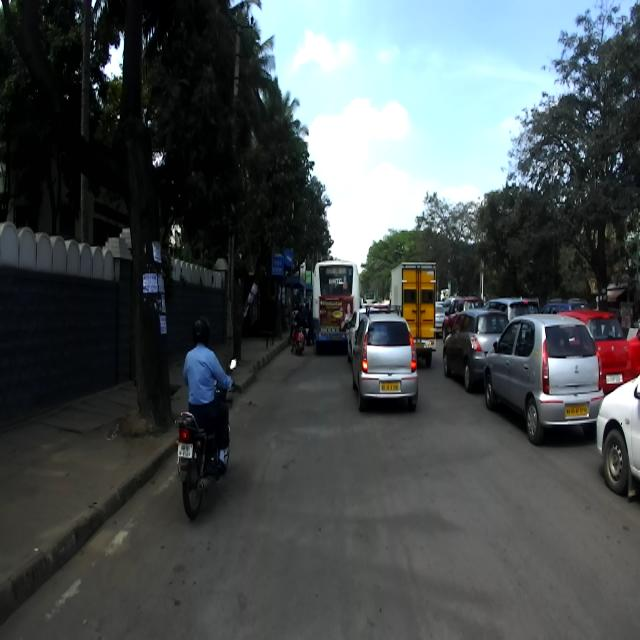car ahead at: (485, 319, 605, 447), (361, 321, 418, 410)
motorcycle ahead at: (178, 404, 241, 522)
tree ahead at: (110, 36, 180, 463)
